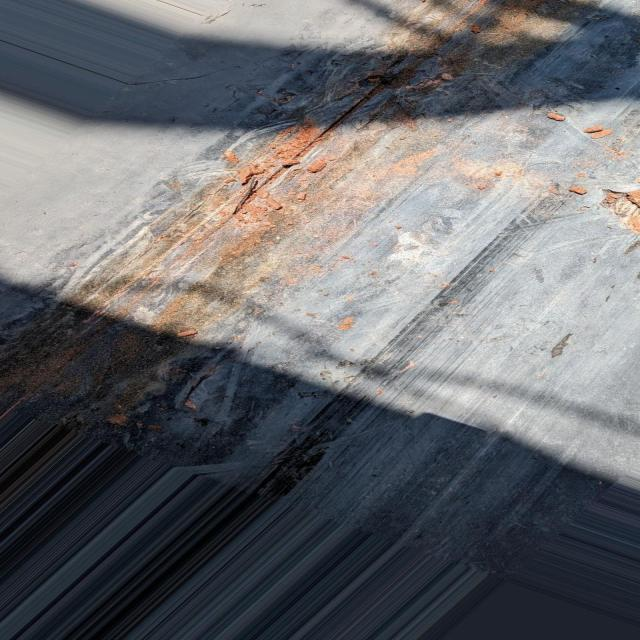impact damage: (27, 10, 509, 403)
